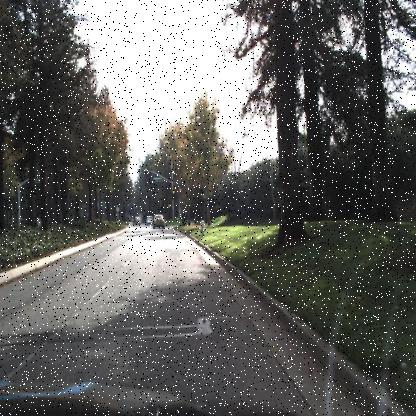car: (152, 211, 165, 231), (151, 213, 165, 229), (144, 213, 154, 227), (132, 214, 141, 226), (146, 214, 154, 226), (133, 216, 141, 225)
trafficLight-Red: (178, 177, 186, 195), (178, 184, 184, 200), (143, 165, 148, 178), (172, 189, 176, 201)
